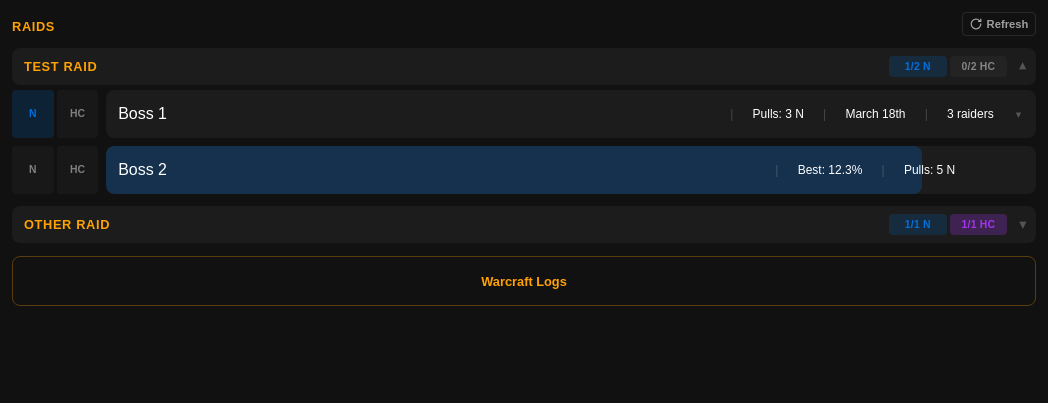
Test: RaidProgressionBox › expands roster grouped by role on click
This screenshot has width=1048, height=403.
Click the button with class "boss-row" that starts with "Boss 1": (143, 114) left=118, top=105, right=1021, bottom=122
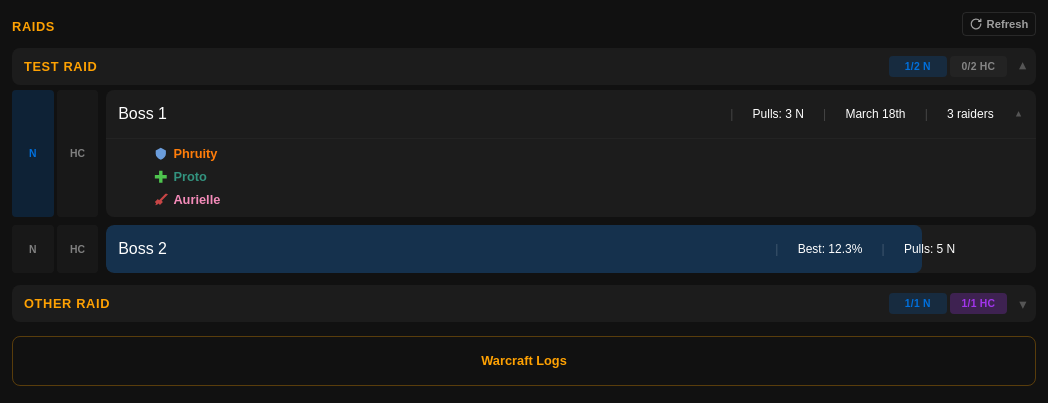
expect the element with class "roster-panel" is shown: met, box left=106, top=138, right=1036, bottom=217
expect the number of elements with class "role-group" is 3: met, box left=154, top=147, right=168, bottom=160; left=154, top=170, right=168, bottom=183; left=154, top=193, right=168, bottom=207
expect the text "Phruity" is shown: met, box left=173, top=144, right=218, bottom=163
